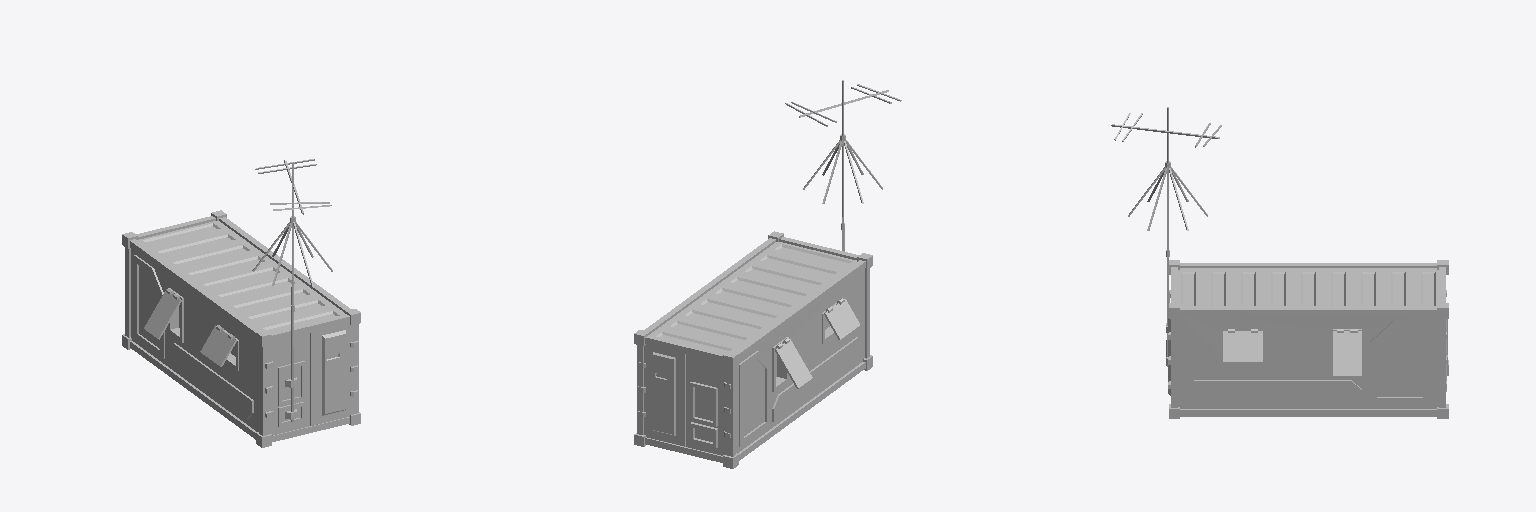
Rendered from radiostation_001.obj.
The picture shows the model from 3 angles: view 1: azimuth 30°, elevation 25°; view 2: azimuth 150°, elevation 25°; view 3: azimuth 270°, elevation 25°; orthographic projection.
Visible parts, largest first — view 1: radiostation_001; view 2: radiostation_001; view 3: radiostation_001.
Boxes of the visible parts, <box> form: radiostation_001: <box>122,159,360,447</box>; radiostation_001: <box>634,80,901,468</box>; radiostation_001: <box>1111,107,1448,418</box>.
Bounding box in the file's own units: 3.63 × 6.75 × 7.42.